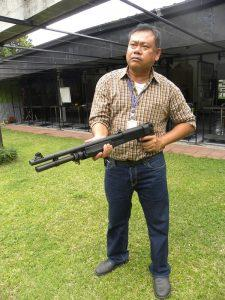criminal: (27, 24, 196, 300)
weapon: (28, 120, 157, 174)
